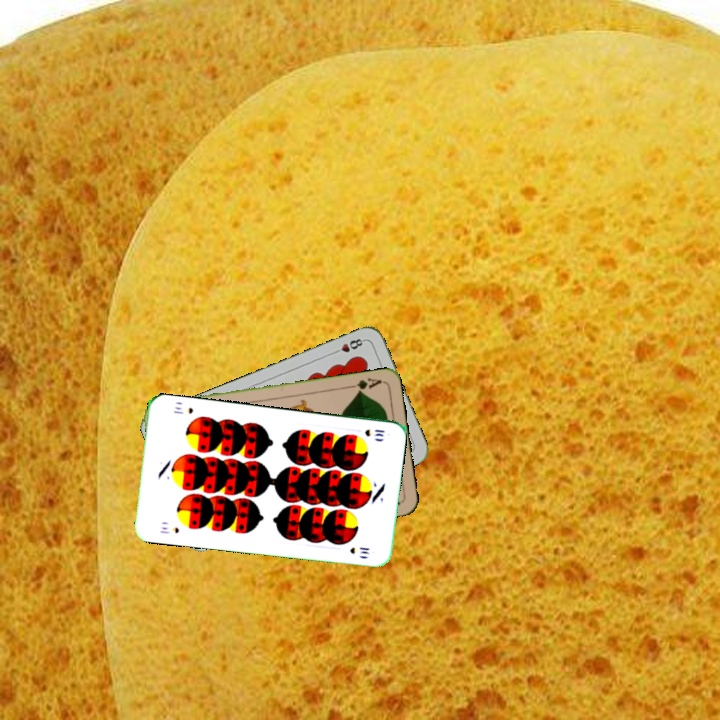GA: (344, 374, 384, 395)
H8: (329, 334, 368, 357)
S10: (361, 425, 387, 439), (156, 523, 182, 536)
